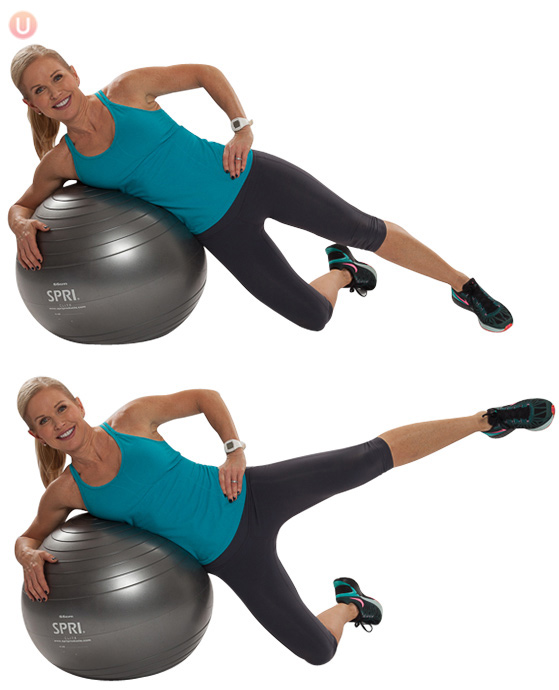yogaball: (15, 510, 223, 686), (9, 183, 211, 343)
